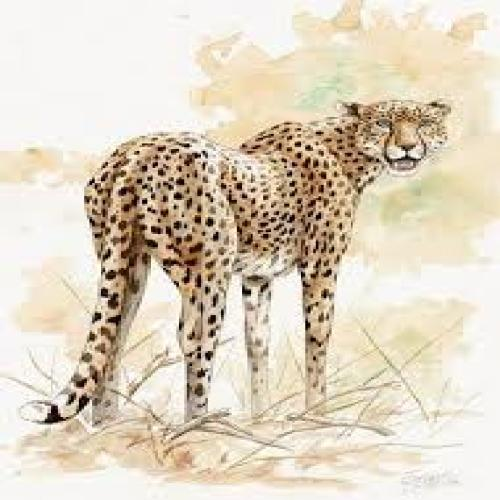cheetah-endangered: (69, 96, 452, 425)
